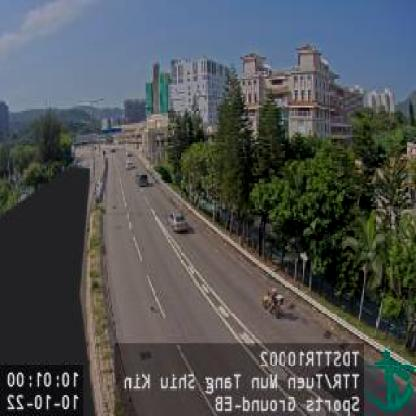Car: (167, 209, 190, 232), (135, 172, 150, 186)
